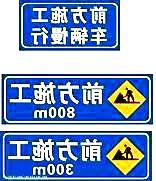sign: (3, 75, 151, 123), (1, 133, 150, 179), (21, 1, 118, 49)
